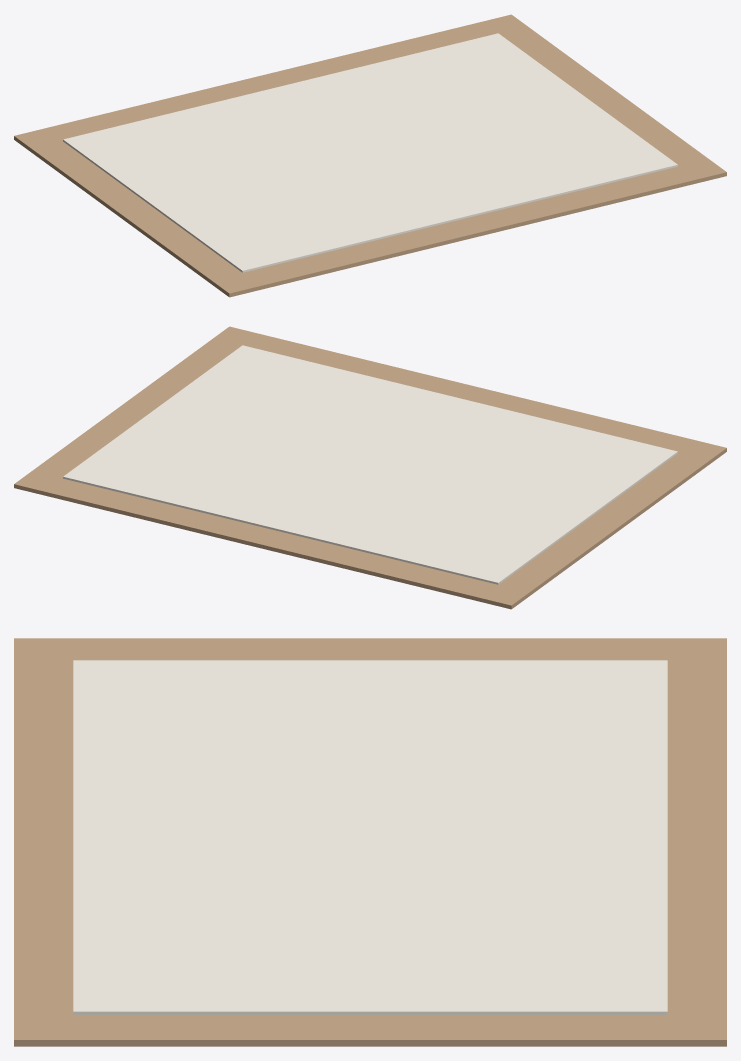
The model's file is Rug.glb.
The picture shows the model from 3 angles, top to bottom: view 1: azimuth 30°, elevation 25°; view 2: azimuth 150°, elevation 25°; view 3: azimuth 270°, elevation 25°; orthographic projection. The views are drawn at different scales.
Visible parts, largest first — view 1: Rug_1, Rug_0; view 2: Rug_1, Rug_0; view 3: Rug_1, Rug_0.
Boxes of the visible parts, x1=… form: Rug_1: x1=63, y1=33, x2=677, y2=272; Rug_0: x1=14, y1=14, x2=726, y2=297; Rug_1: x1=63, y1=345, x2=677, y2=584; Rug_0: x1=14, y1=326, x2=726, y2=609; Rug_1: x1=73, y1=660, x2=667, y2=1014; Rug_0: x1=14, y1=638, x2=726, y2=1046.
Size of the model in its own units: 8 by 0.09 by 6.
